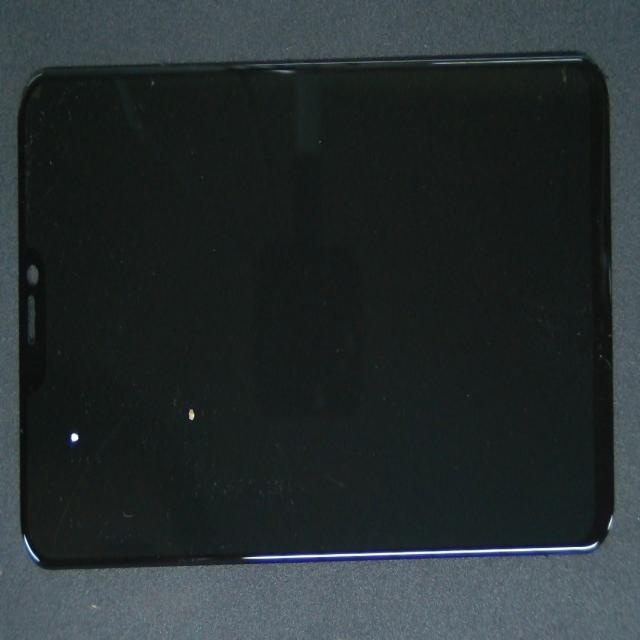stain: (112, 195, 283, 592), (59, 177, 127, 601)
